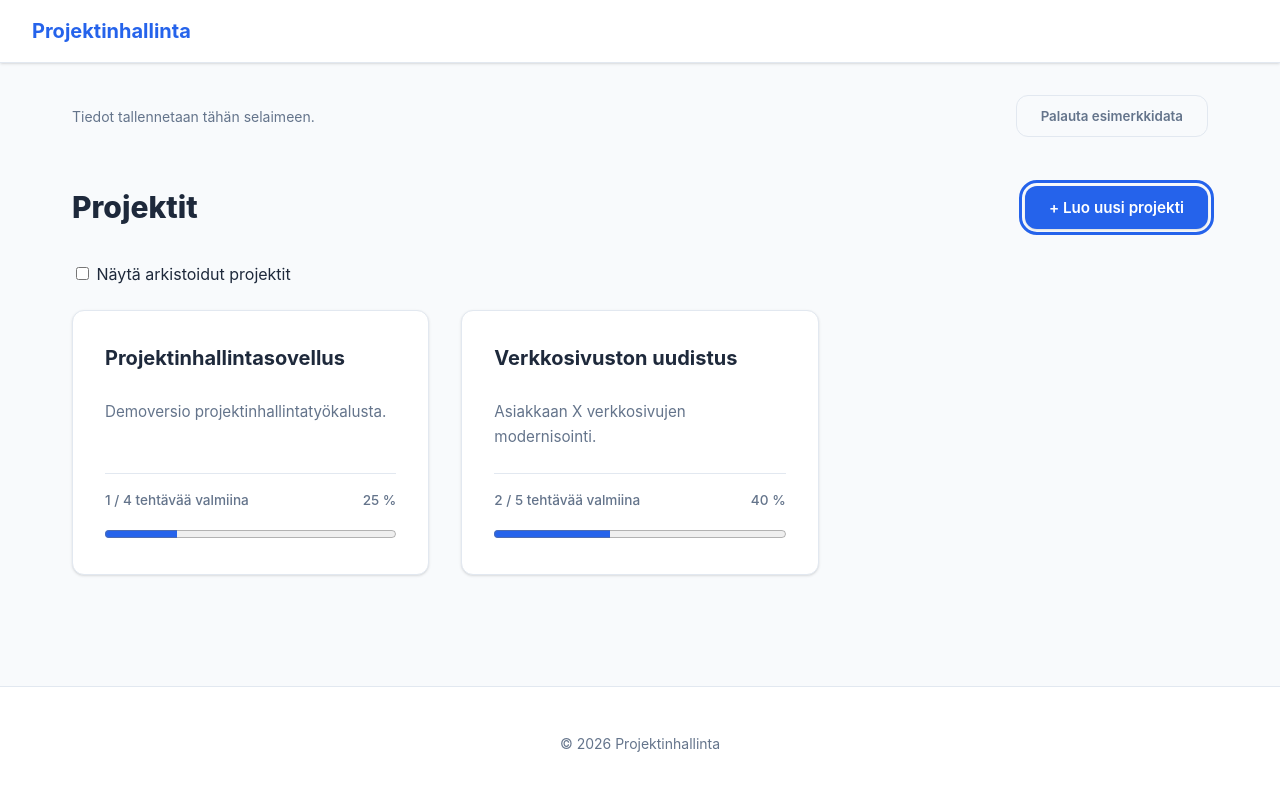
Test case: dialog traps focus and closes with Escape
Click the button "+ Luo uusi projekti" at (1116, 208), box top-left (1025, 186), bottom-right (1208, 229)
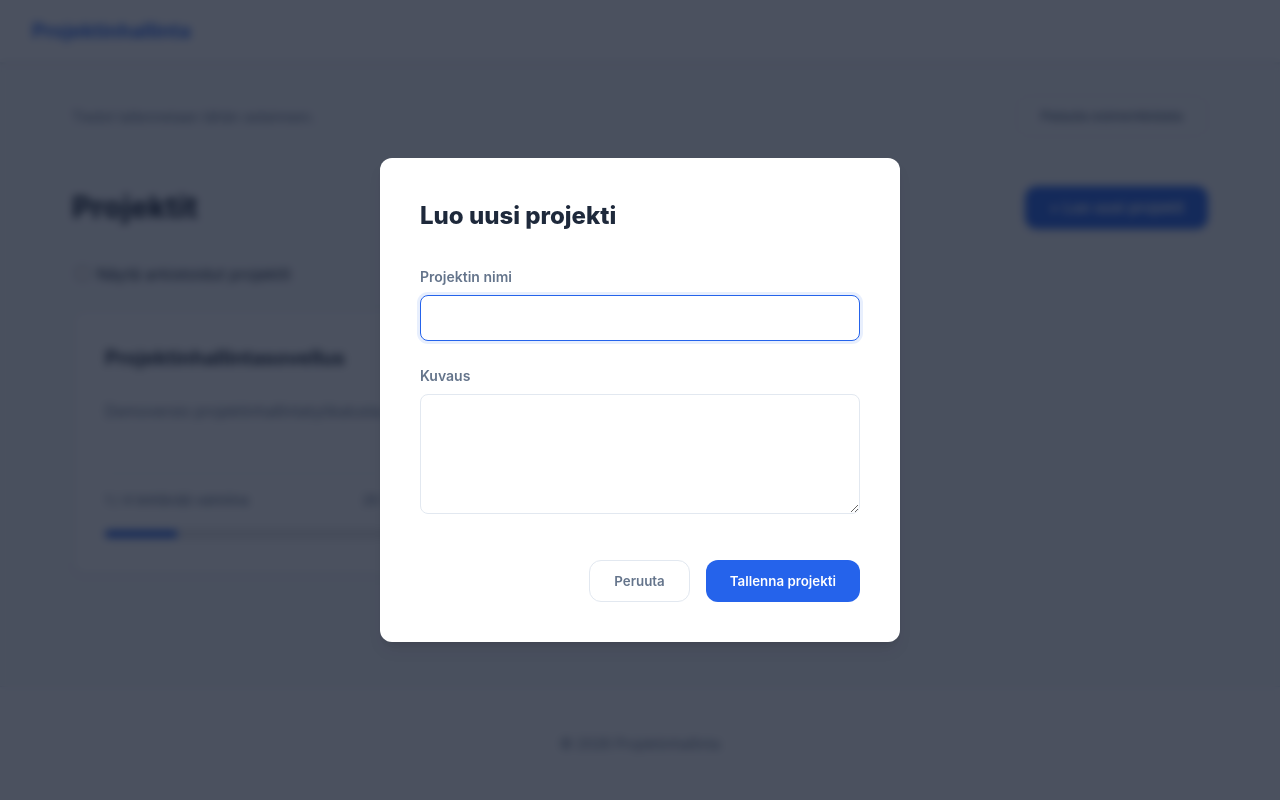
Press Shift+Tab
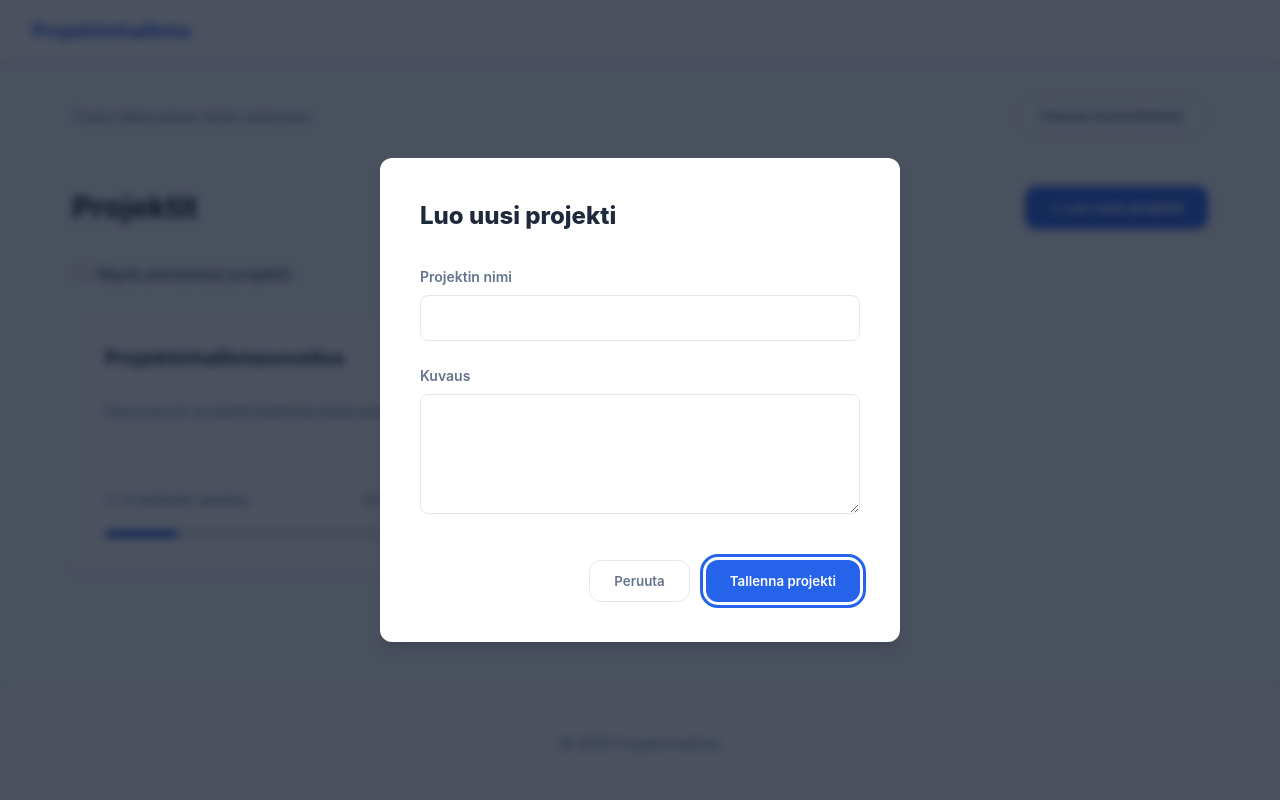
Press Tab
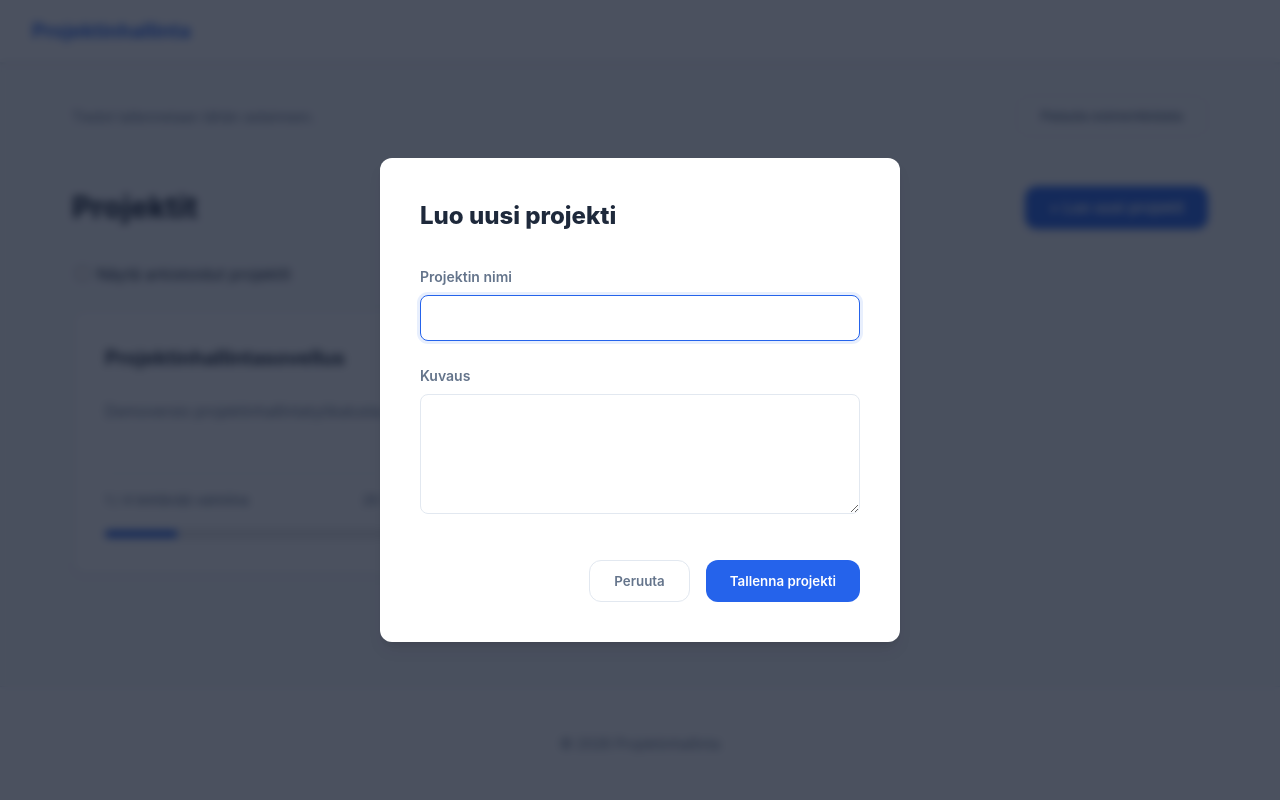
Press Escape in the field labelled "Projektin nimi", box top-left (420, 295), bottom-right (860, 341)
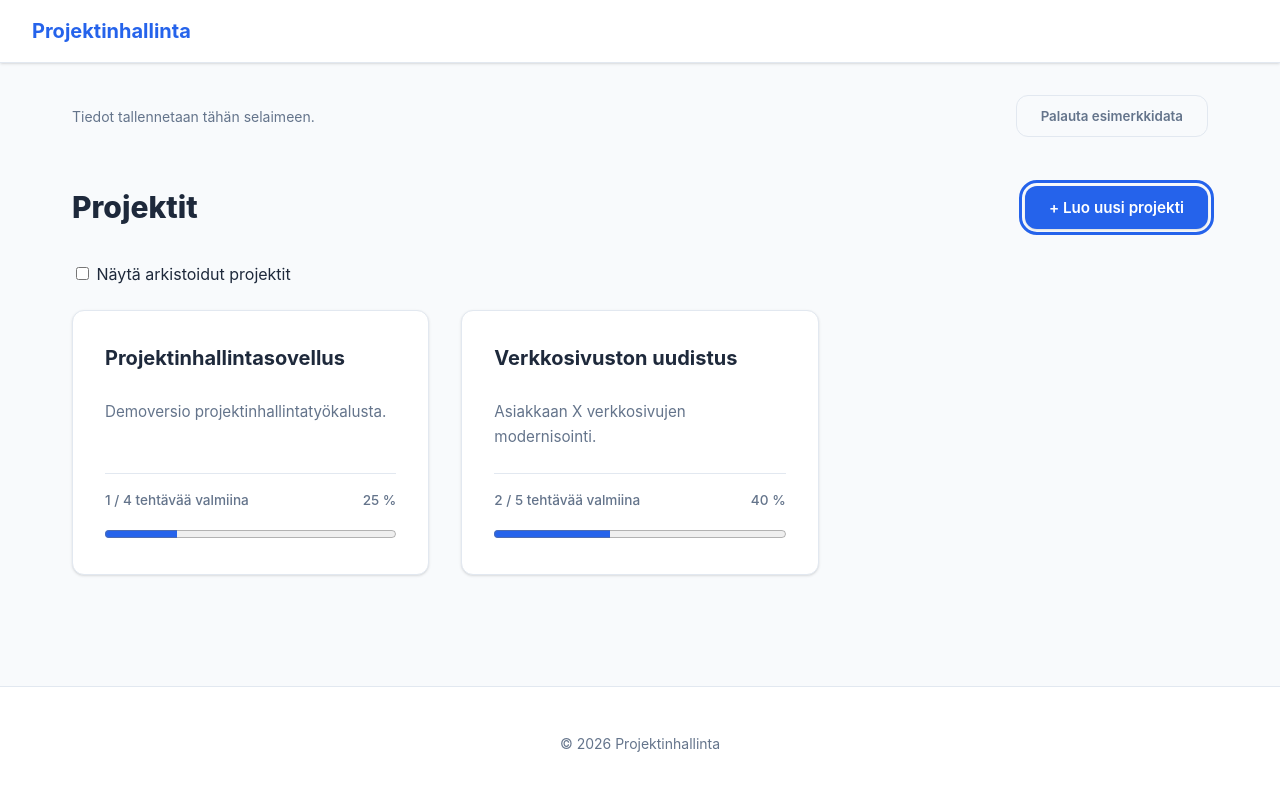
Now the dialog is gone
